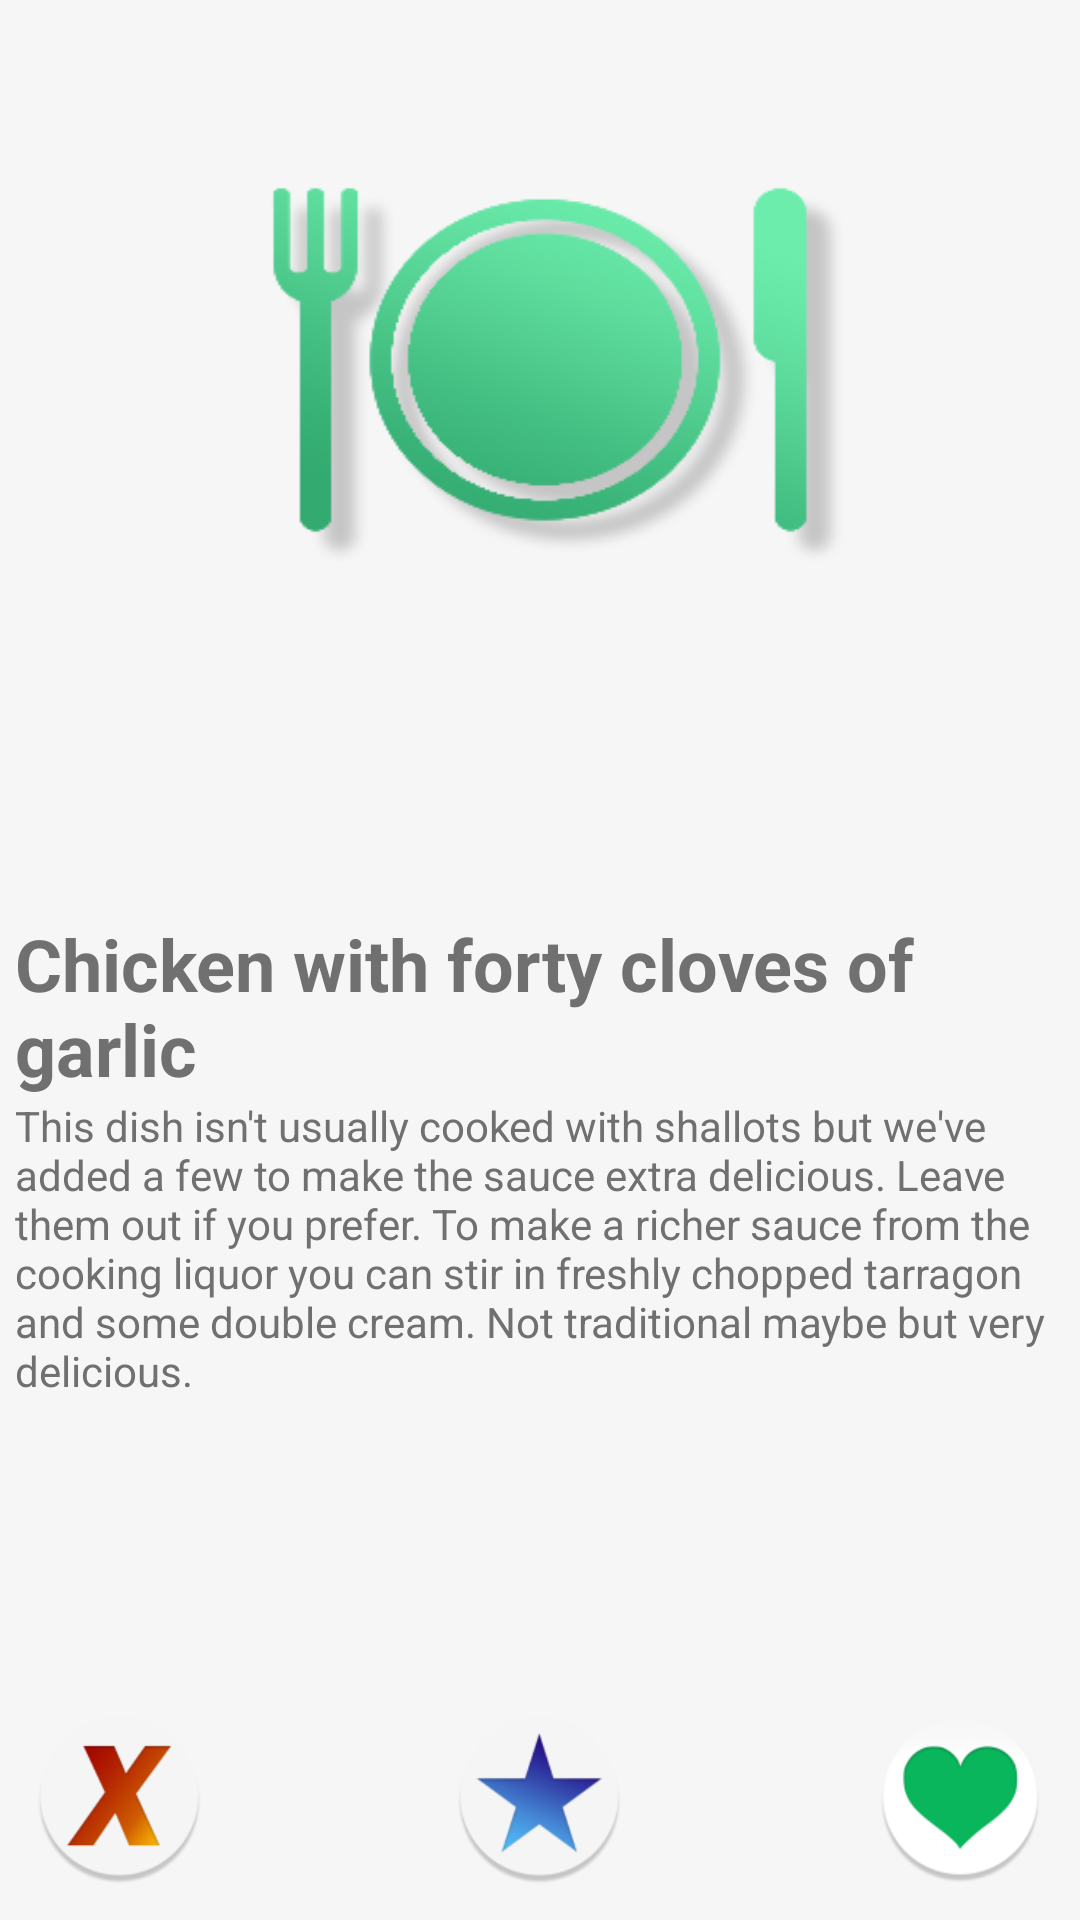

Point at icon controls on the screen. Image size 1080x1920, points as (x,y).
dislike: (120,1813)
like: (960,1813)
suplike: (540,1807)
